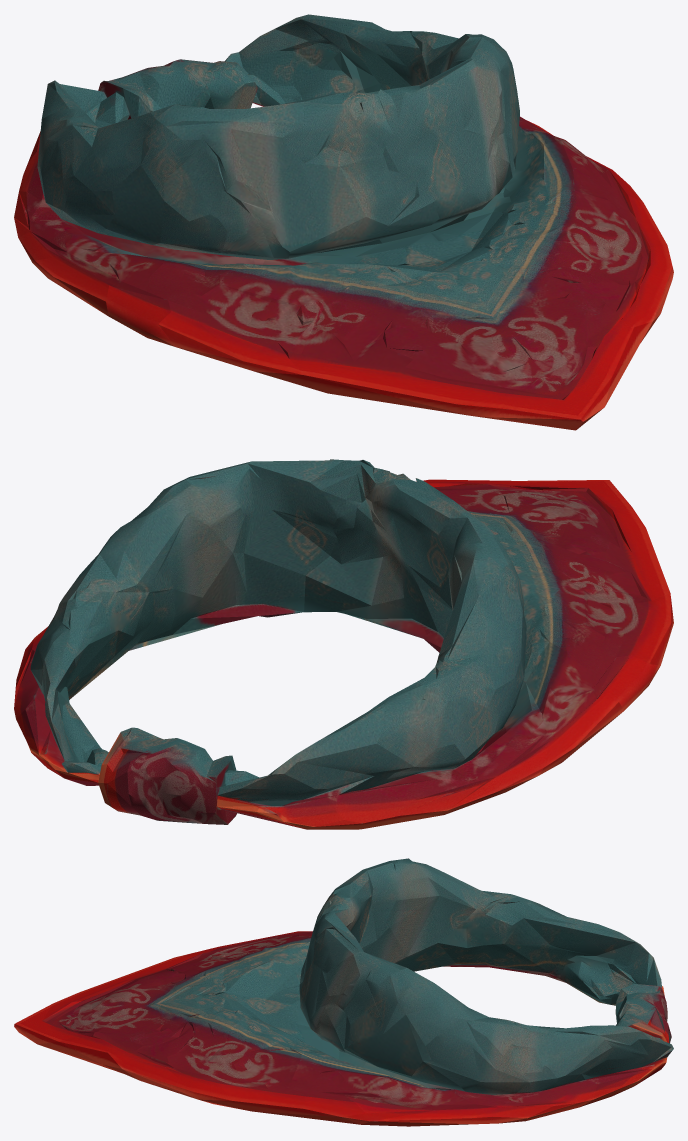
Rendered from bandana.glb.
3 views of the same model, one above another, from view 1: azimuth 30°, elevation 25°; view 2: azimuth 150°, elevation 25°; view 3: azimuth 270°, elevation 25° (orthographic). The views are drawn at different scales.
Size of the model in its own units: 1.28 by 0.4748 by 1.9.
1 material, 1 textured.
